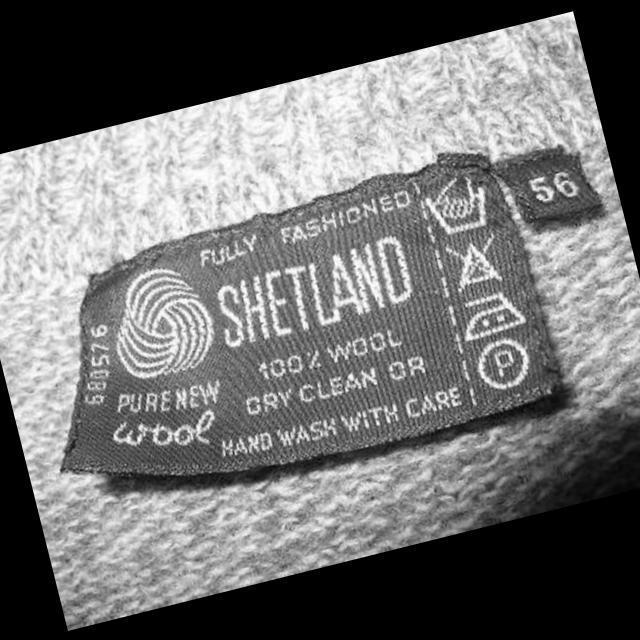DN_bleach: (434, 228, 511, 296)
hand_wash: (416, 164, 495, 241)
iron_medium: (450, 280, 534, 348)
normal_dry_clean_solvents: (467, 328, 539, 398)
